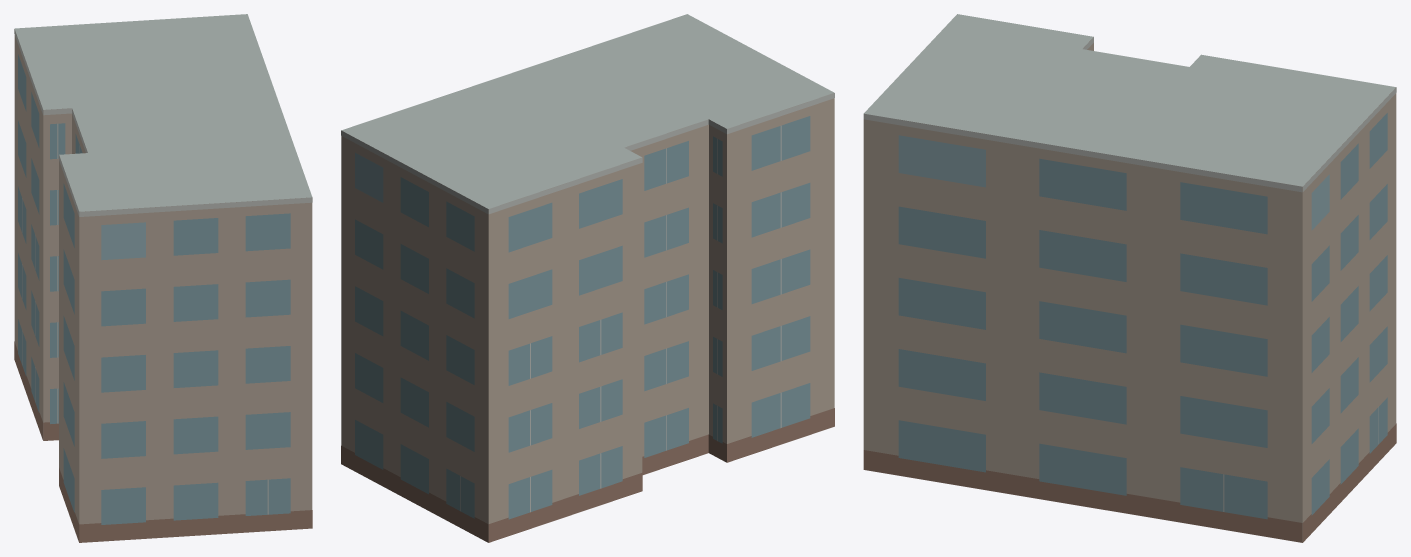
The model's file is survey-upis-32664424.glb.
3 views of the same model, side by side, from view 1: azimuth 30°, elevation 25°; view 2: azimuth 150°, elevation 25°; view 3: azimuth 270°, elevation 25° (orthographic). The views are drawn at different scales.
Parts seen in each view (by area): view 1: survey-upis-32664424.tmp; view 2: survey-upis-32664424.tmp; view 3: survey-upis-32664424.tmp.
Part boxes in pixels (x1,y1,x2,y2): survey-upis-32664424.tmp: (14, 14, 312, 542); survey-upis-32664424.tmp: (341, 14, 834, 542); survey-upis-32664424.tmp: (863, 14, 1396, 542).
Size of the model in its own units: 15.87 by 15.25 by 20.68.
